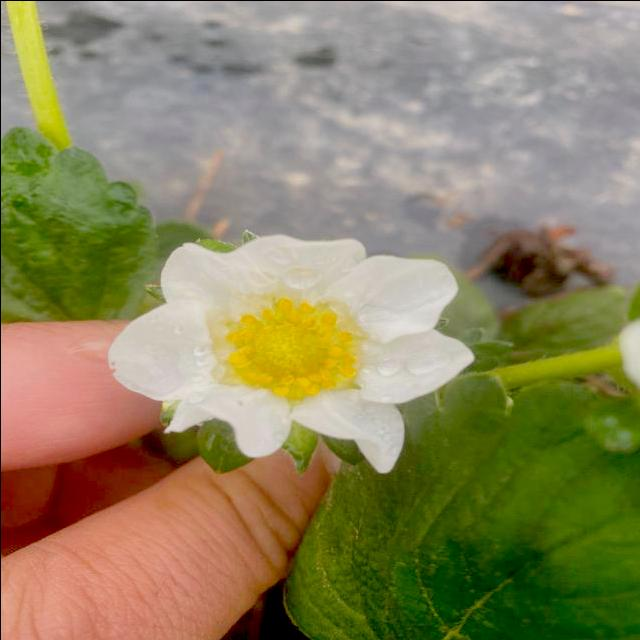flower: (113, 237, 478, 472)
